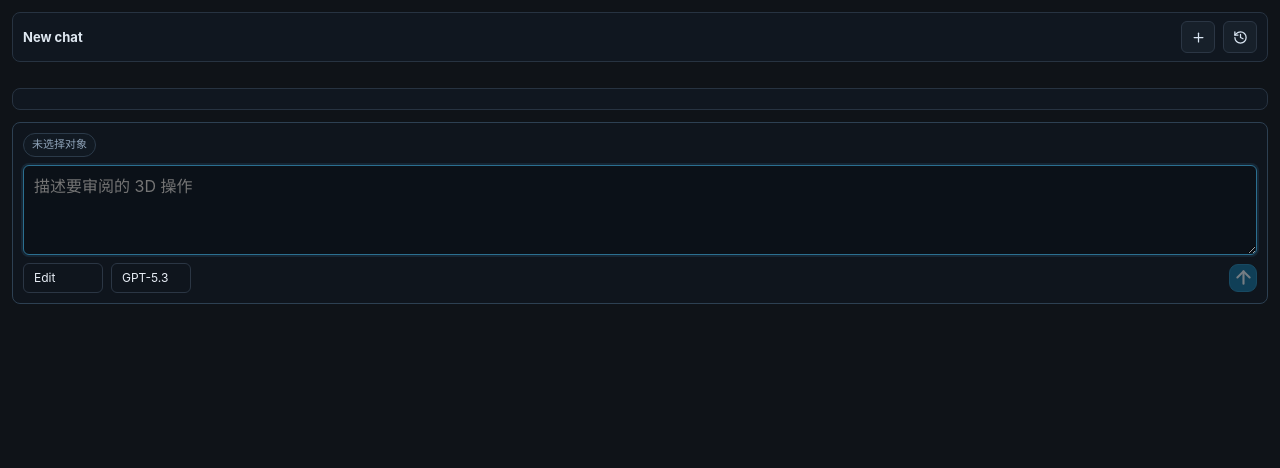
Test: AgentPanel › does not execute action drafts returned while in Ask mode
This screenshot has width=1280, height=468.
Step 1. Select "Ask" in the dropdown named "AI mode" → (63, 278), box [23, 263, 103, 293]
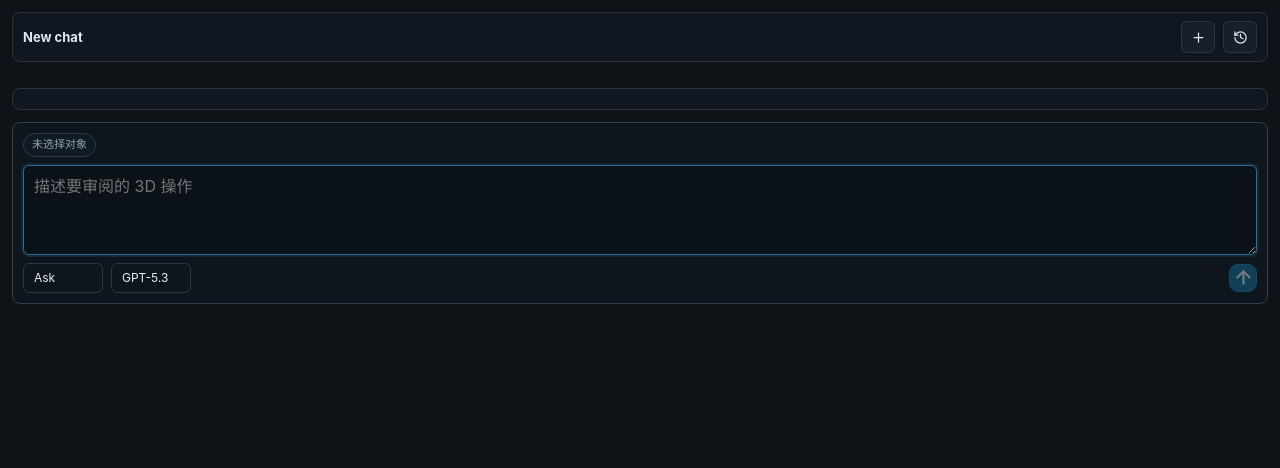
Step 2. Type "重置视角" into the text box named "AI 指令输入" → (640, 210), box [23, 165, 1257, 255]
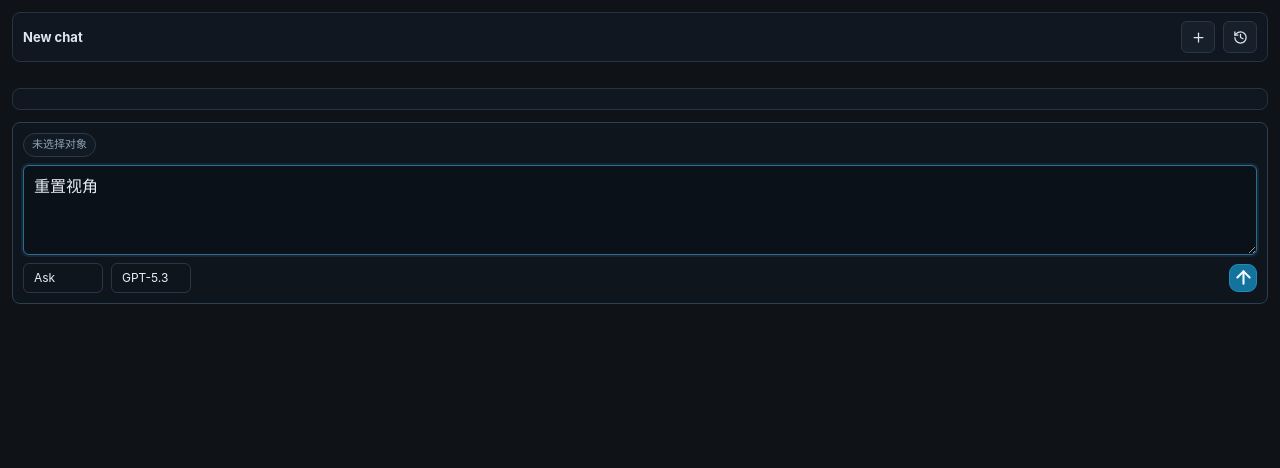
Step 3. Click the button named "发送指令" → (1243, 278), box [1229, 264, 1257, 292]
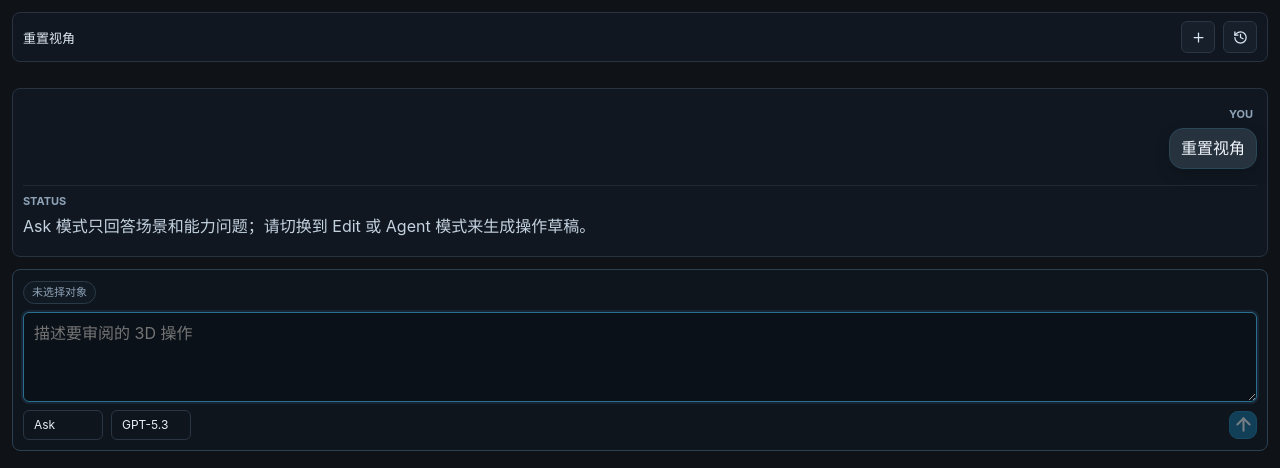
Expected: the text "Ask 模式只回答场景和能力问题；请切换到 Edit 或 Agent 模式来生成操作草稿。" is shown, [23, 216, 595, 236]
